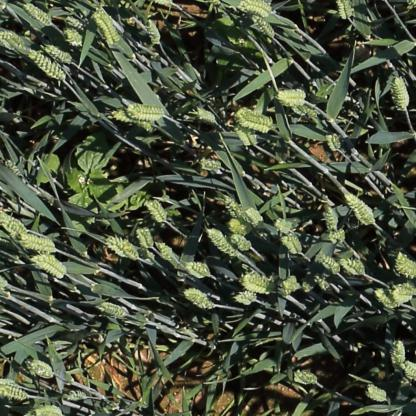whd: (345, 192, 380, 230), (108, 105, 154, 132), (28, 251, 69, 281), (26, 48, 64, 80), (207, 228, 239, 257), (93, 9, 117, 47), (238, 266, 271, 293), (238, 110, 274, 134), (389, 69, 409, 111), (374, 289, 414, 310), (250, 12, 277, 40), (183, 286, 214, 310), (232, 286, 260, 312), (183, 259, 213, 282), (222, 193, 245, 222), (106, 239, 139, 259), (292, 366, 319, 390), (24, 2, 51, 26), (388, 279, 416, 302), (26, 359, 58, 379), (126, 104, 165, 120), (388, 338, 406, 371), (0, 377, 27, 399), (233, 123, 256, 148), (146, 199, 168, 225), (237, 1, 275, 16), (0, 212, 26, 233), (44, 43, 72, 62), (319, 252, 342, 275), (313, 274, 336, 297), (282, 232, 303, 257), (20, 234, 55, 249), (395, 253, 416, 278), (276, 87, 305, 104), (397, 355, 415, 382), (325, 201, 339, 235), (155, 239, 175, 262), (62, 388, 90, 404), (340, 259, 366, 276), (3, 157, 24, 178), (244, 206, 265, 227), (100, 303, 128, 318), (326, 133, 343, 157), (64, 27, 84, 47), (230, 233, 252, 251), (228, 219, 251, 236), (276, 276, 298, 293), (142, 225, 156, 251), (26, 405, 62, 415), (367, 385, 389, 401), (0, 32, 19, 50), (196, 107, 217, 123), (200, 160, 225, 173), (66, 16, 86, 32), (338, 0, 352, 22), (0, 32, 18, 49), (275, 219, 293, 234), (290, 104, 308, 116), (330, 229, 346, 242)
